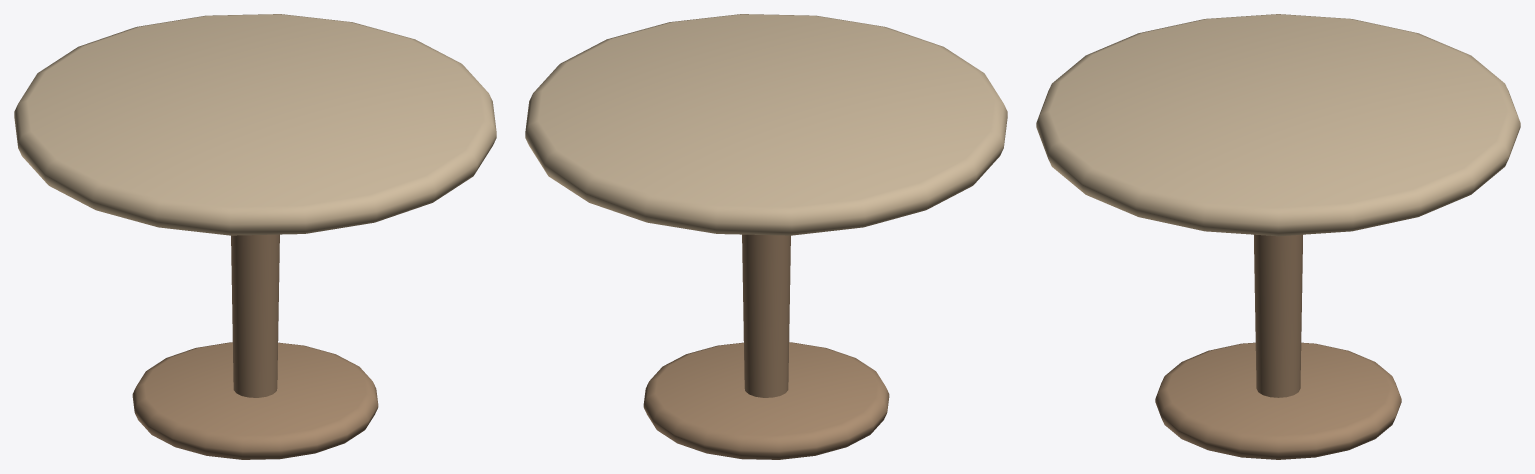
The model's file is round_table.glb.
3 renders of one model, left to right at view 1: azimuth 30°, elevation 25°; view 2: azimuth 150°, elevation 25°; view 3: azimuth 270°, elevation 25°, orthographic.
Visible parts, largest first — view 1: round_table; view 2: round_table; view 3: round_table.
Boxes of the visible parts, x1=… form: round_table: x1=14, y1=14, x2=496, y2=459; round_table: x1=525, y1=14, x2=1007, y2=459; round_table: x1=1036, y1=14, x2=1520, y2=459.
Bounding box in the file's own units: 1.1 × 0.755 × 1.1.
